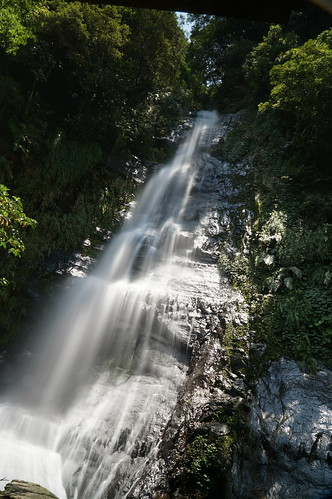wufengciWaterfall: (54, 85, 259, 479)
